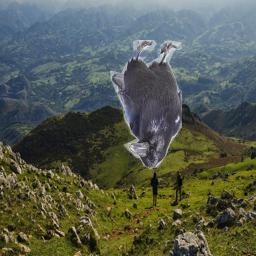Crow: (110, 40, 182, 170)
